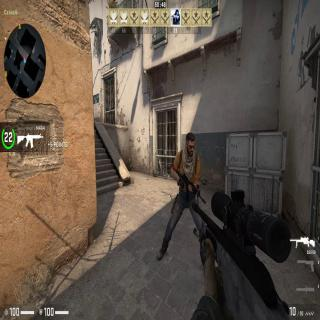T-Body: (162, 129, 205, 260)
T-Head: (185, 132, 196, 156)
